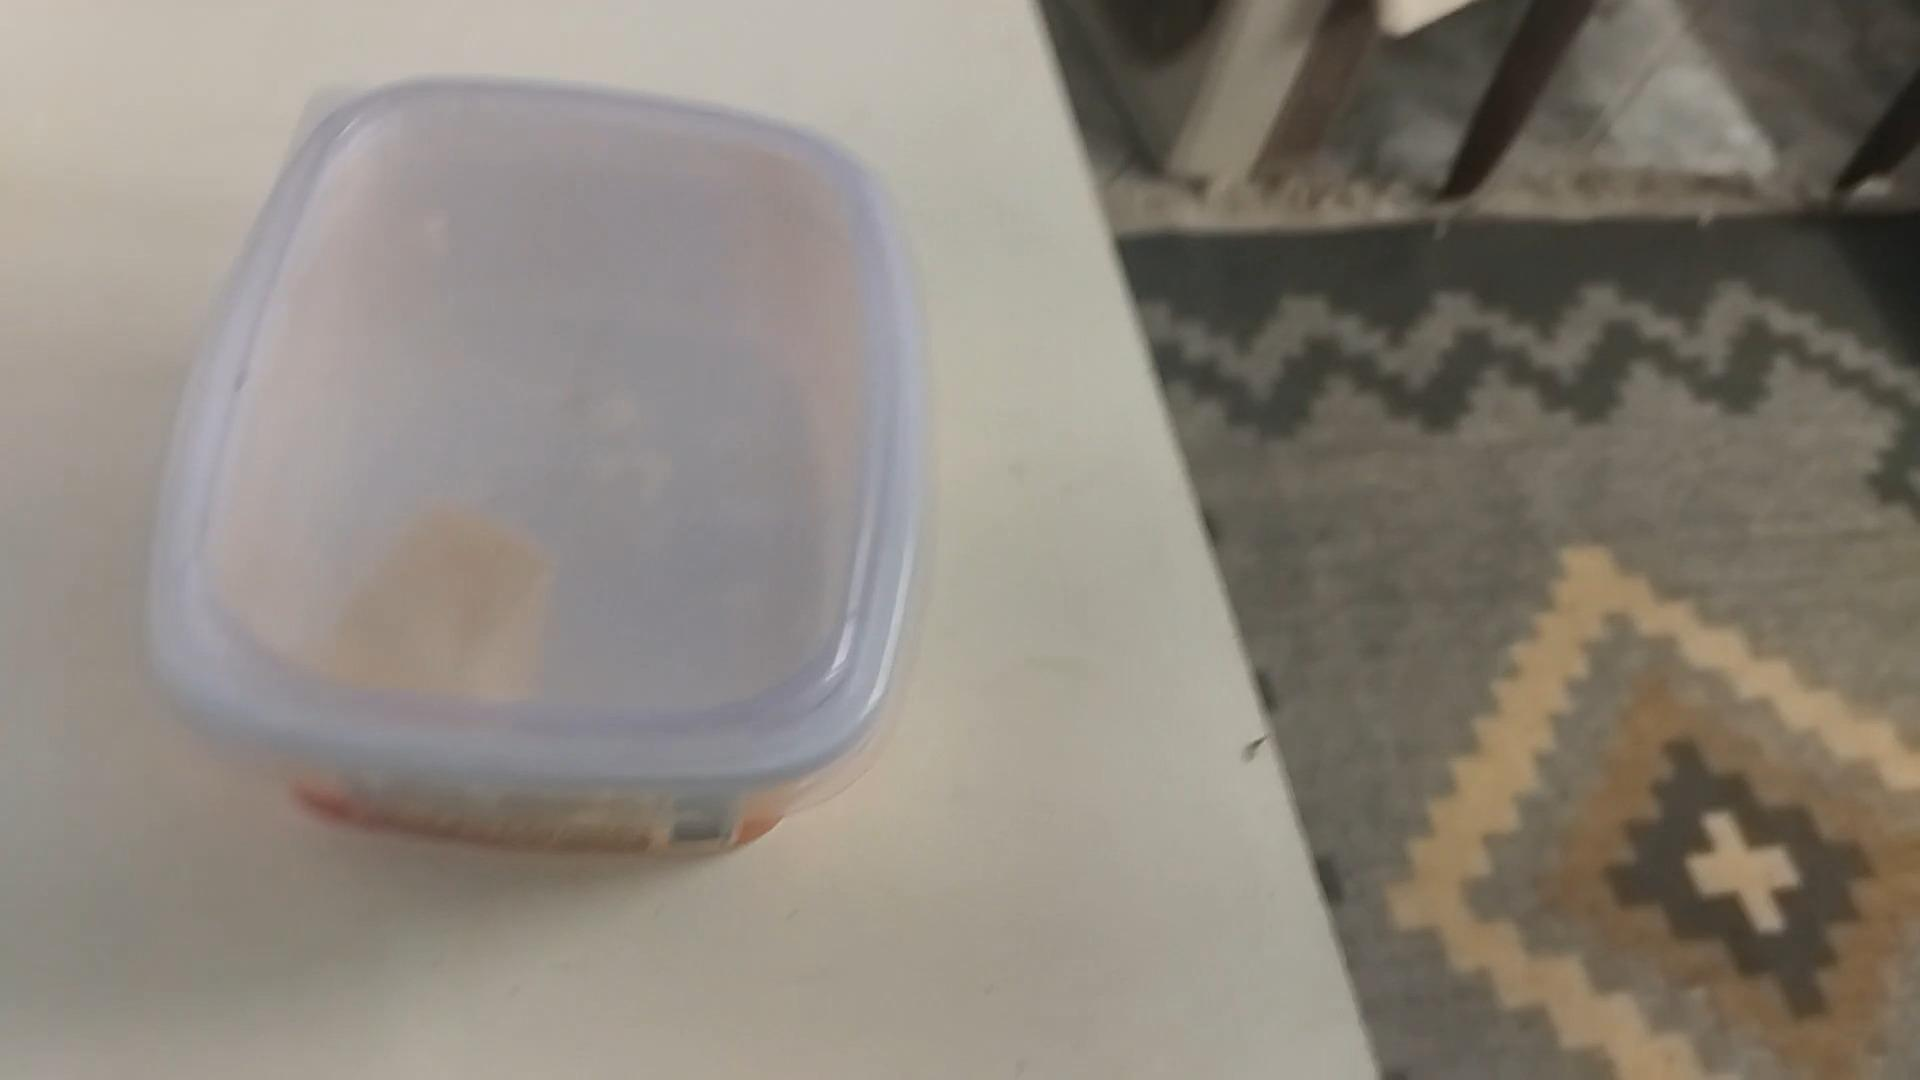butter: (148, 86, 924, 862)
